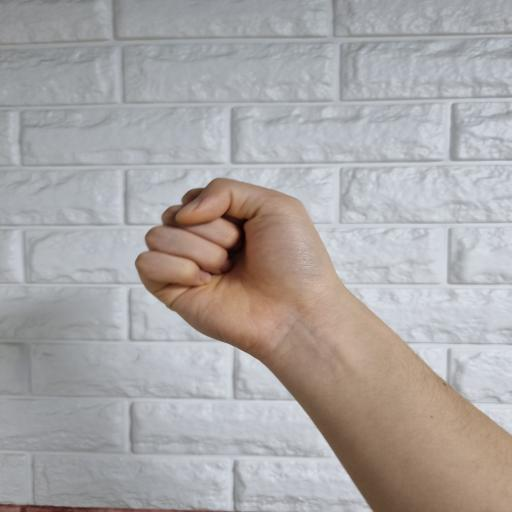Rock: (133, 179, 342, 363)
